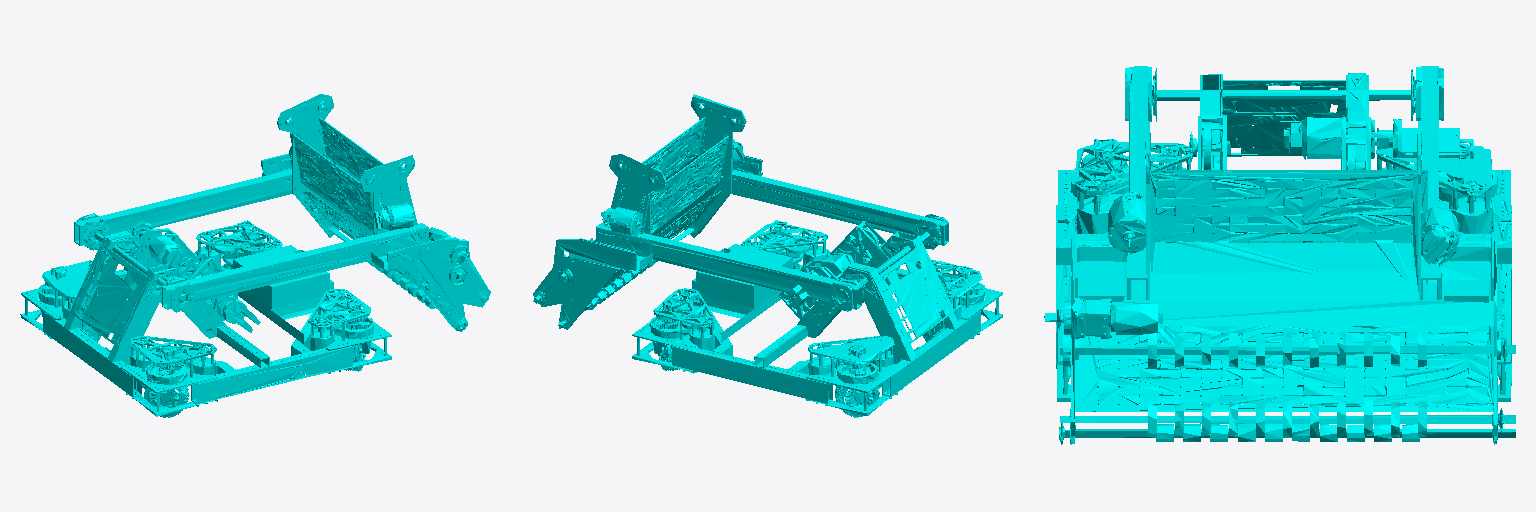
robot.urdf — robot_2024:
<?xml version="1.0"?>
<robot name="robot_2024">

	<link name="base_link">
		<visual>
			<origin xyz="0 0 0" rpy="0 0 0" />
			<geometry>
				<mesh filename="package://robot_2024_description/meshes/base_link.stl"/>
			</geometry>
			<material name="Cyan">
				<color rgba="0 1.0 1.0 1.0"/>
			</material>
      	</visual>
   
		<collision>
			<origin xyz="0 0 0" rpy="0 0 0"/>
			<geometry>
				<mesh filename="package://robot_2024_description/meshes/base_link.stl"/>
			</geometry>
		</collision>
	</link>

	<joint name="arm_joint" type="revolute">
		<parent link="base_link"/>
		<child link="arm_link"/>
		<axis xyz="0 1 0"/>
		<limit lower="-2.0" upper="0.07" effort="100.0" velocity="1.0"/>
		<origin xyz="-0.146 0 0.261" rpy="0 0 0" />
	</joint>

	<link name="arm_link">
		<visual>
			<origin xyz="0 0 0" rpy="0 0 0" />
			<geometry>
				<mesh filename="package://robot_2024_description/meshes/arm_link.stl"/>
			</geometry>
			<material name="Cyan">
				<color rgba="0 1.0 1.0 1.0"/>
			</material>
      	</visual>
   
		<collision>
			<origin xyz="0 0 0" rpy="0 0 0"/>
			<geometry>
				<mesh filename="package://robot_2024_description/meshes/arm_link.stl"/>
			</geometry>
		</collision>
	</link>
	<joint name="b2c1_test" type="fixed">
		<child link="c1"/>
		<parent link="base_link"/>
		<origin xyz="-0.22814 0.068 0.2617" rpy="-2.06123 -3.14957 1.5708"/>
	</joint>
	<joint name="b2c2_test" type="fixed">
		<child link="c2"/>
		<parent link="base_link"/>
		<origin xyz="-0.247 0.068 0.2261" rpy="0.0 -1.0664 0.0"/> <!-- TODO Update ME-->
	</joint>
	<link name="c1"/>
	<link name="c2"/>


</robot>

--- Render facts (derived) ---
The picture shows the robot from 3 angles, left to right: view 1: azimuth 30°, elevation 25°; view 2: azimuth 150°, elevation 25°; view 3: azimuth 270°, elevation 25°; orthographic projection.
Model robot_2024 with 4 links and 3 joints (1 revolute, 2 fixed), rooted at base_link, posed all joints at 0.
Links seen in each view (by area): view 1: base_link, arm_link; view 2: base_link, arm_link; view 3: arm_link, base_link.
Link boxes in pixels (x1,y1,x2,y2): base_link: (20,220,391,417); arm_link: (74,94,490,331); base_link: (632,220,1002,417); arm_link: (533,94,948,329); arm_link: (1044,66,1515,444); base_link: (1056,73,1511,404).
Bounding box of the posed robot: 0.8779 × 0.63 × 0.4693 m (x, y, z).
Meshes: 2 distinct files referenced, 2 mesh visuals loaded (2 binary STL).